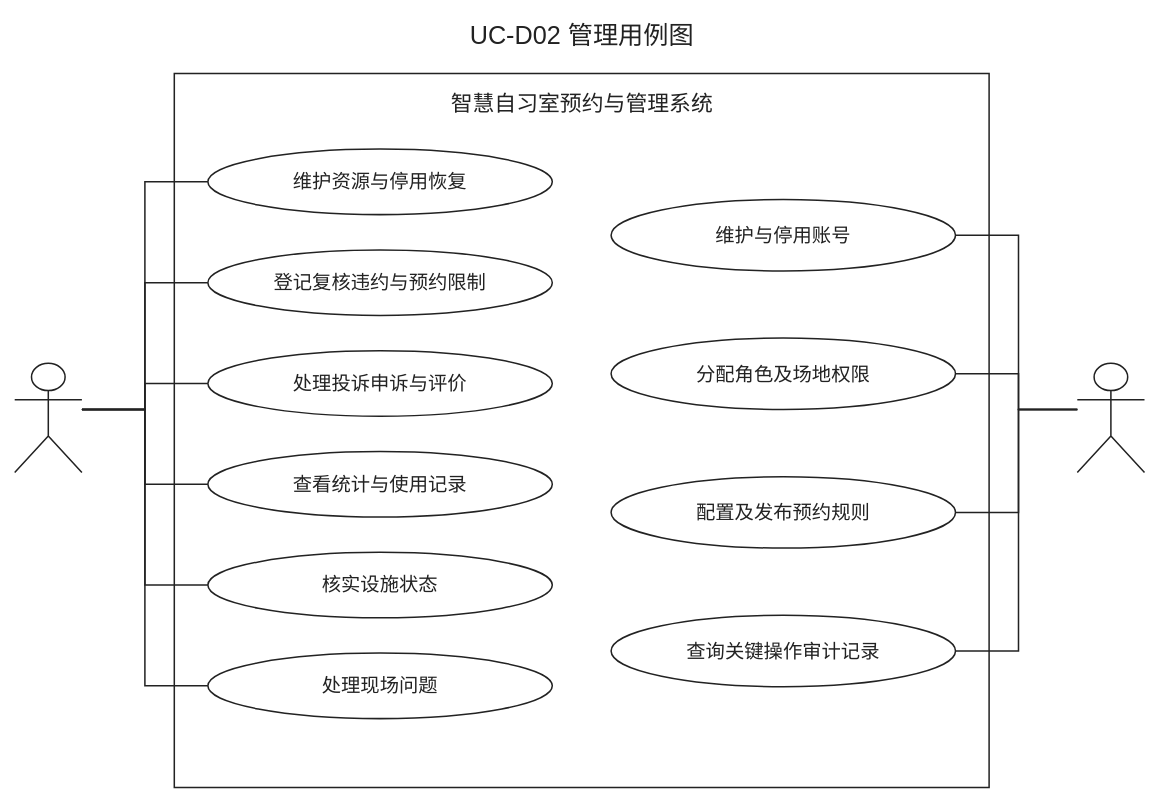
The diagram is 1160 pixels wide and 802 high, and some of its shapes have lost their labels. The shapes that lost their labels are listed below. From the top down, each one's centre as x and y in pixels, then its label:
At pixel 48 417: "场地管理员".
At pixel 1110 417: "系统管理员".
